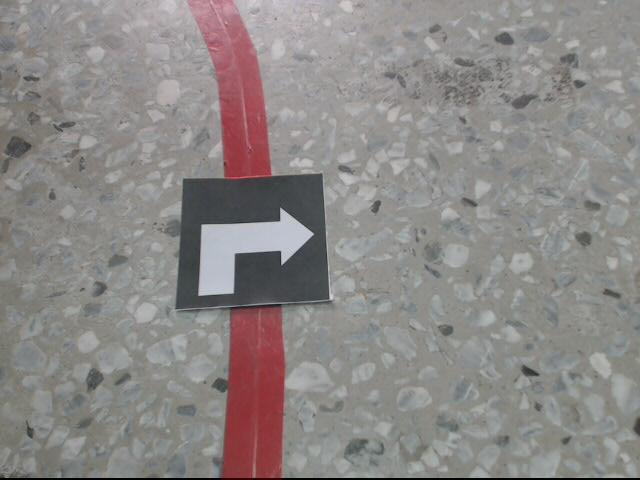right: (177, 173, 331, 311)
